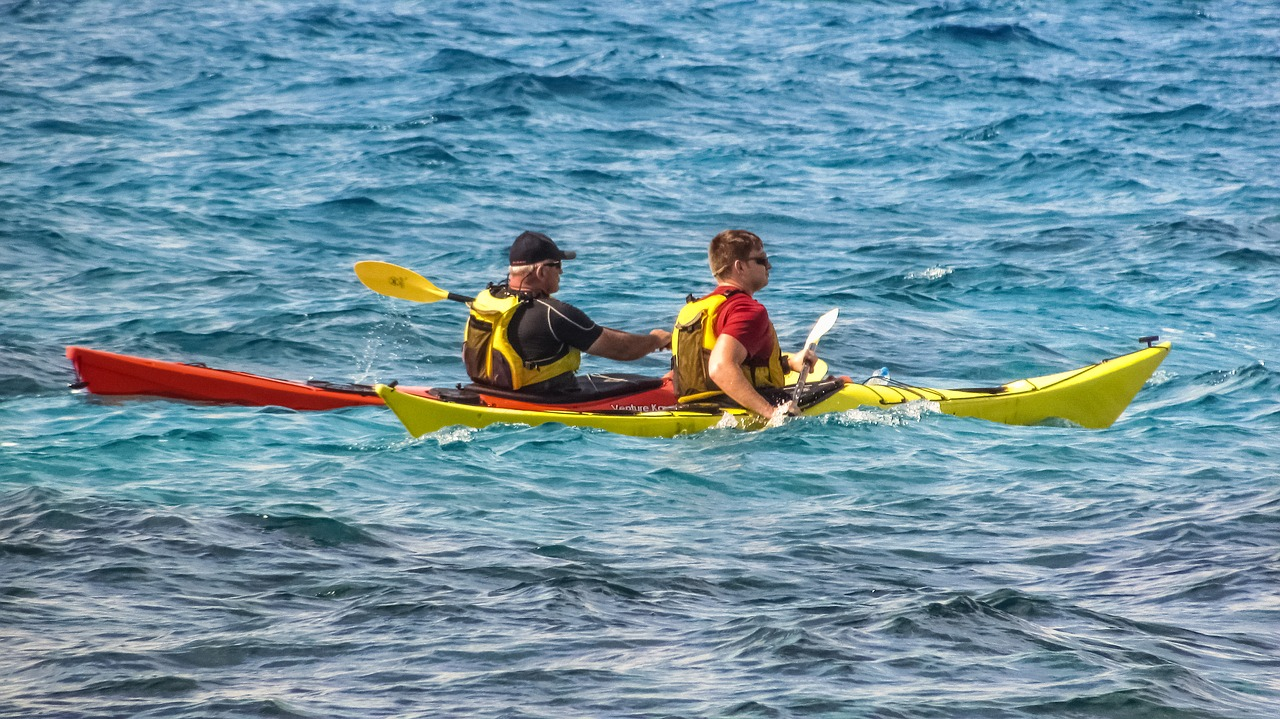kayak: (371, 329, 1174, 456)
